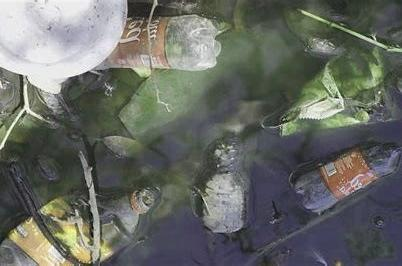Plastic: (0, 184, 160, 266), (289, 138, 401, 213), (102, 17, 223, 71), (192, 134, 253, 234)
